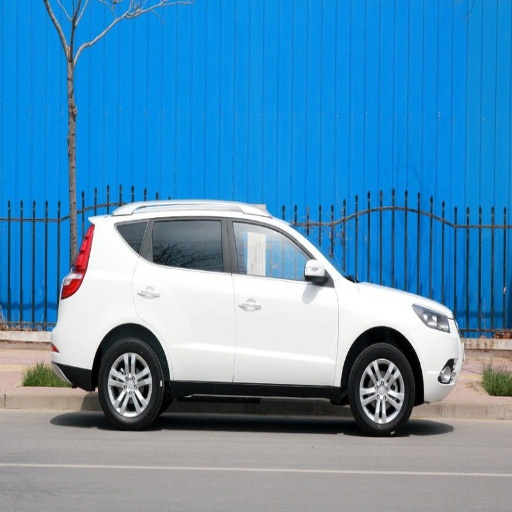back_right_door: (132, 213, 235, 391)
front_right_door: (231, 215, 339, 385)
